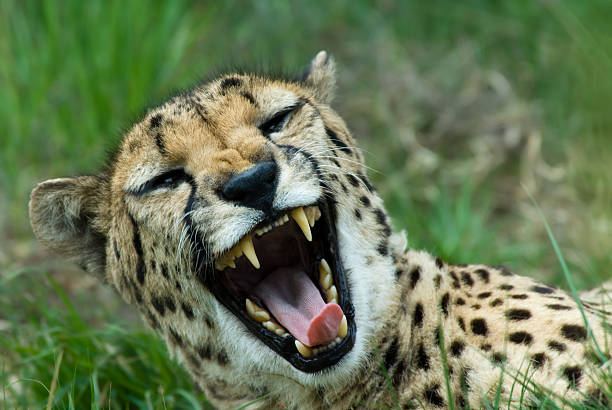cheetah: (16, 37, 421, 410)
